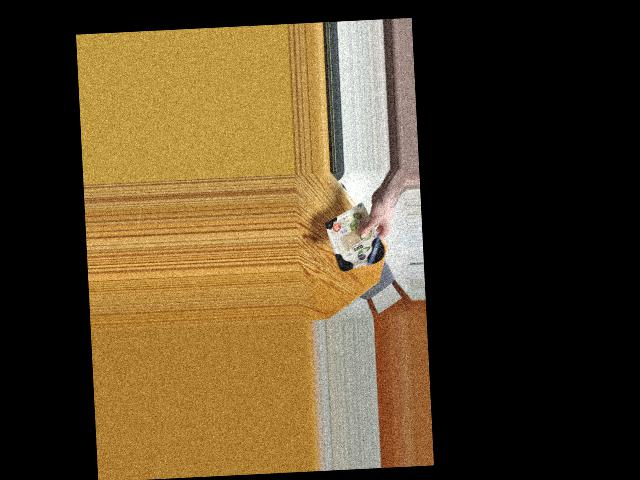cheese: (326, 212, 387, 273)
